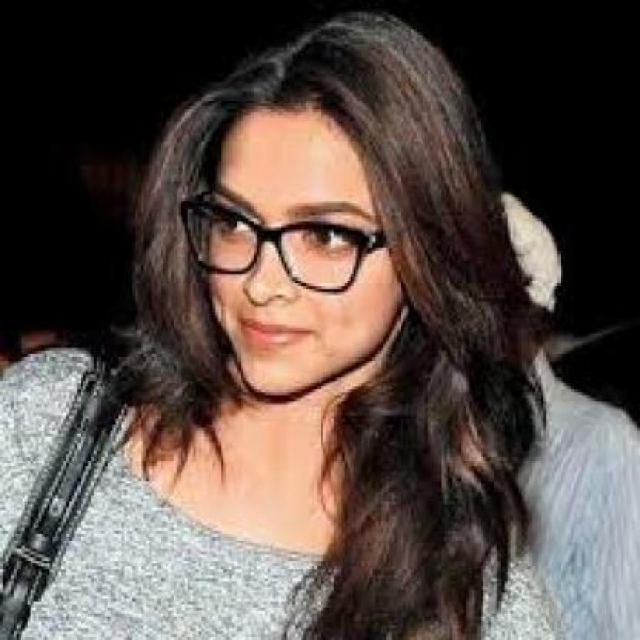glasses: (168, 181, 388, 308)
